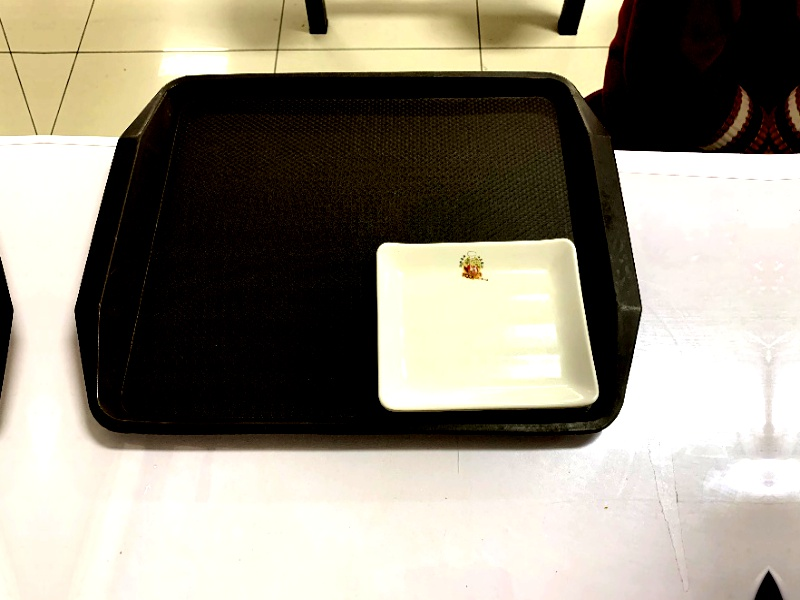dish4: (365, 231, 602, 420)
